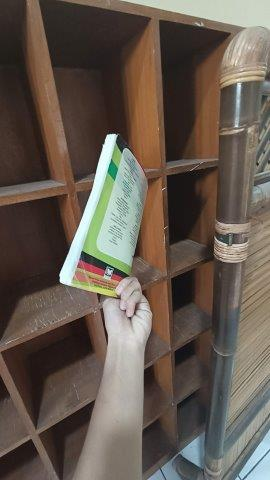kertas: (60, 135, 148, 299)
